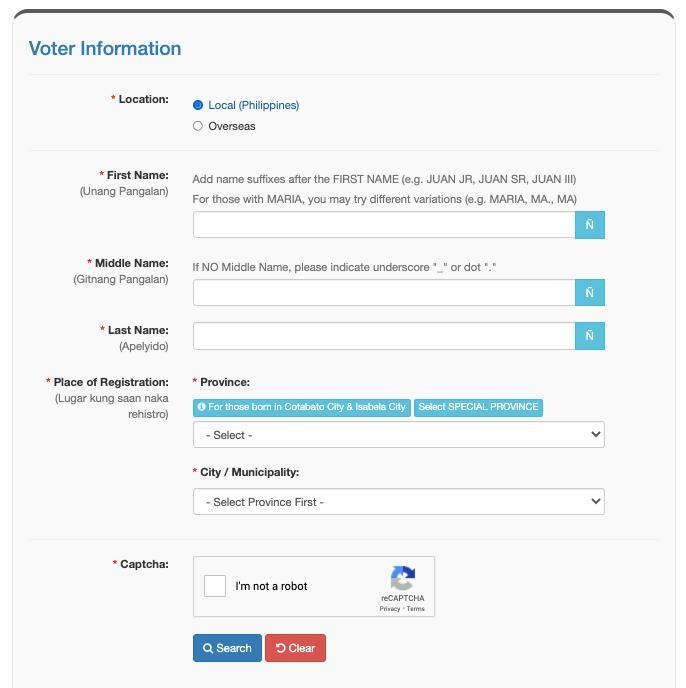button: (193, 634, 263, 663), (266, 633, 327, 664)
checkbox: (204, 574, 228, 598)
dropdown: (194, 422, 606, 450), (195, 489, 606, 516)
input: (193, 322, 576, 352), (193, 279, 576, 308), (194, 211, 578, 239)
label: (54, 377, 173, 390), (201, 466, 301, 480), (209, 100, 301, 114), (95, 256, 169, 272), (234, 580, 311, 594), (106, 170, 174, 183), (108, 325, 172, 338), (119, 558, 172, 571), (118, 94, 171, 105), (201, 378, 253, 389), (210, 123, 259, 132)
radio: (193, 121, 205, 132), (194, 100, 204, 111)
